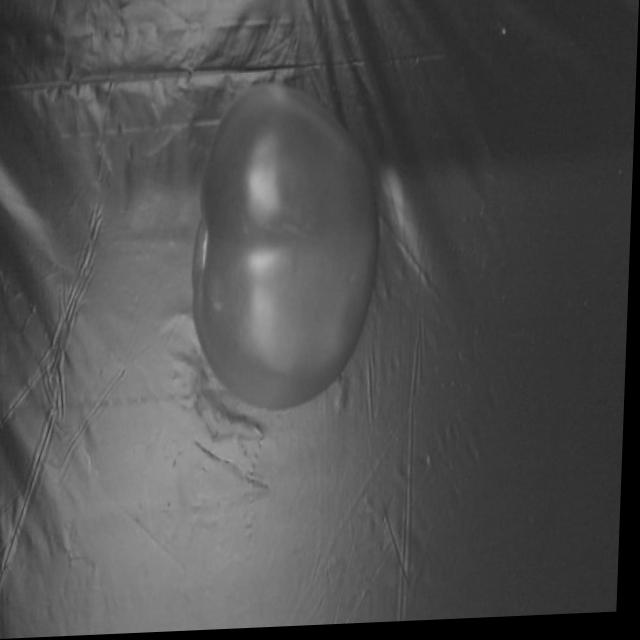kirmizi: (177, 70, 381, 424)
